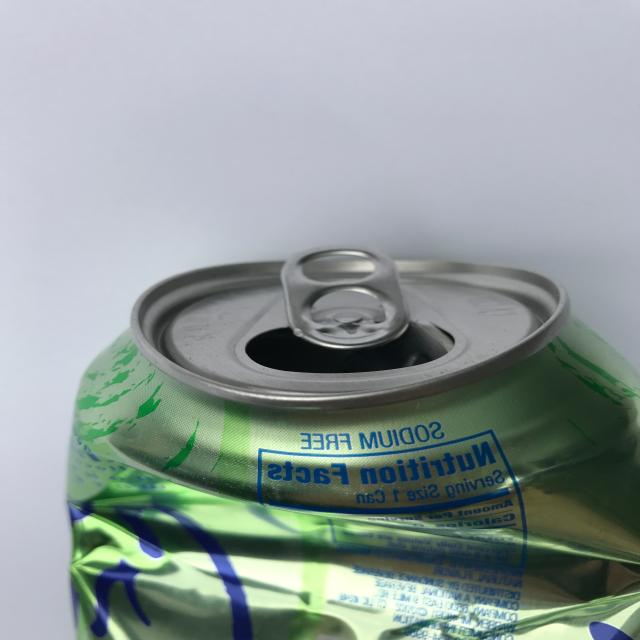metal: (0, 222, 640, 640)
